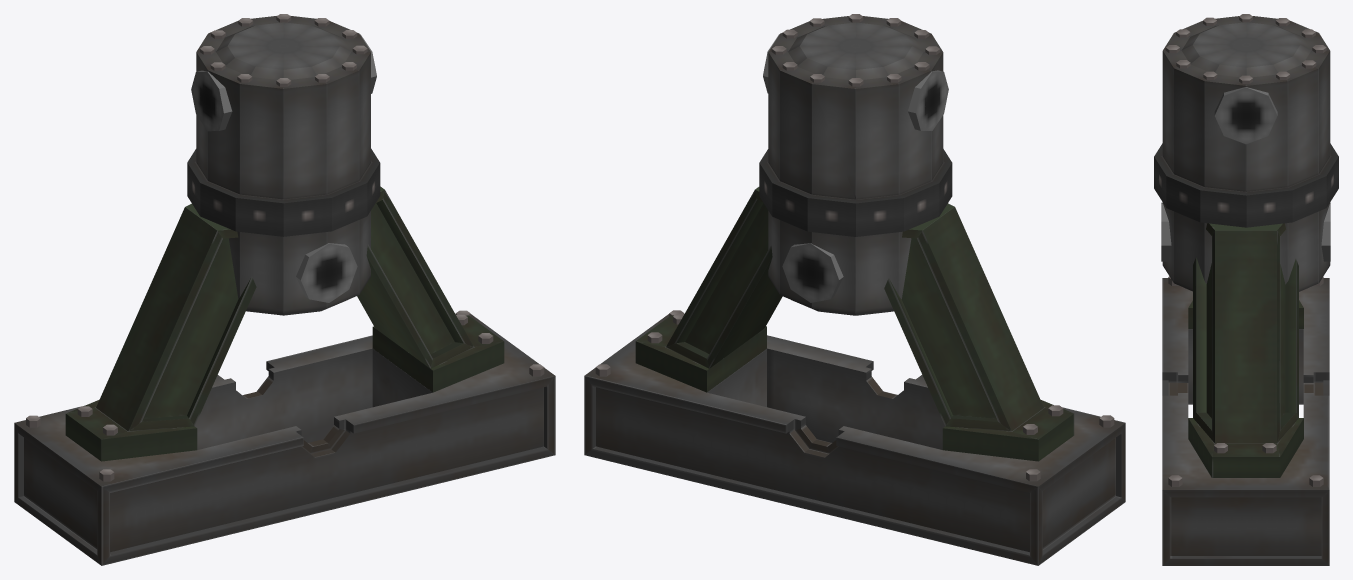
Rendered from steam_engine_base.obj.
3 renders of one model, left to right at view 1: azimuth 30°, elevation 25°; view 2: azimuth 150°, elevation 25°; view 3: azimuth 270°, elevation 25°, orthographic. The views are drawn at different scales.
Parts seen in each view (by area): view 1: заклепки; view 2: заклепки; view 3: заклепки.
Part boxes in pixels (left/top/right/bottom): заклепки: left=14, top=14, right=555, bottom=565; заклепки: left=584, top=14, right=1125, bottom=565; заклепки: left=1154, top=14, right=1338, bottom=565.
Bounding box in the file's own units: 3 × 2.73 × 1.1.
